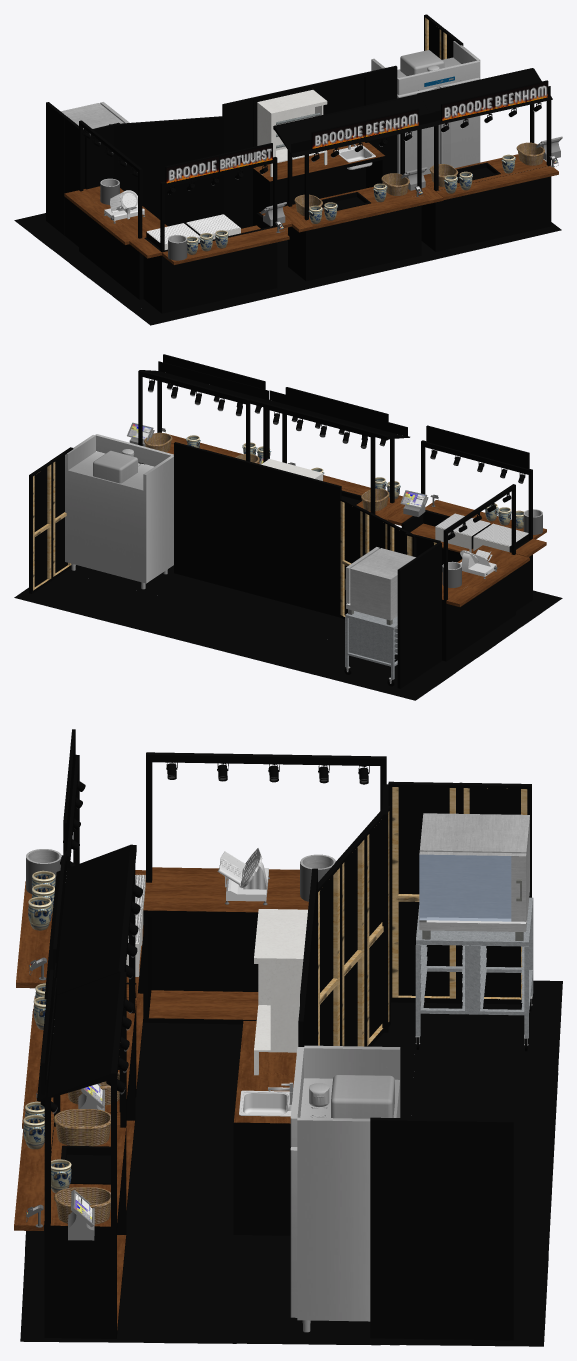
File: opstelling-2-web.glb
3 renders of one model, top to bottom at view 1: azimuth 30°, elevation 25°; view 2: azimuth 150°, elevation 25°; view 3: azimuth 270°, elevation 25°, orthographic. The views are drawn at different scales.
Parts seen in each view (by area): view 1: Geom3D (×13), Geom3D_zwart wandje; view 2: Geom3D (×13), Geom3D_zwart wandje; view 3: Geom3D (×13), Geom3D_zwart wandje.
Boxes of the visible parts, bbox=[...] form: Geom3D (×13): bbox=[14, 14, 562, 325]; Geom3D_zwart wandje: bbox=[147, 167, 453, 244]; Geom3D (×13): bbox=[14, 354, 562, 700]; Geom3D_zwart wandje: bbox=[138, 433, 528, 605]; Geom3D (×13): bbox=[14, 729, 562, 1346]; Geom3D_zwart wandje: bbox=[82, 874, 526, 1126].
Bounding box in the file's own units: 7.45 × 2.49 × 4.56.
48 materials, 32 textured.
